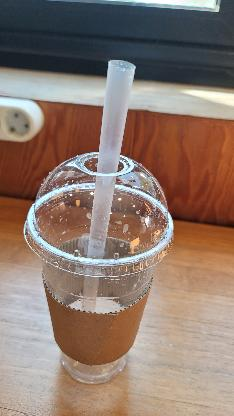Plastic Cup: (24, 152, 174, 385), (23, 152, 173, 279)
